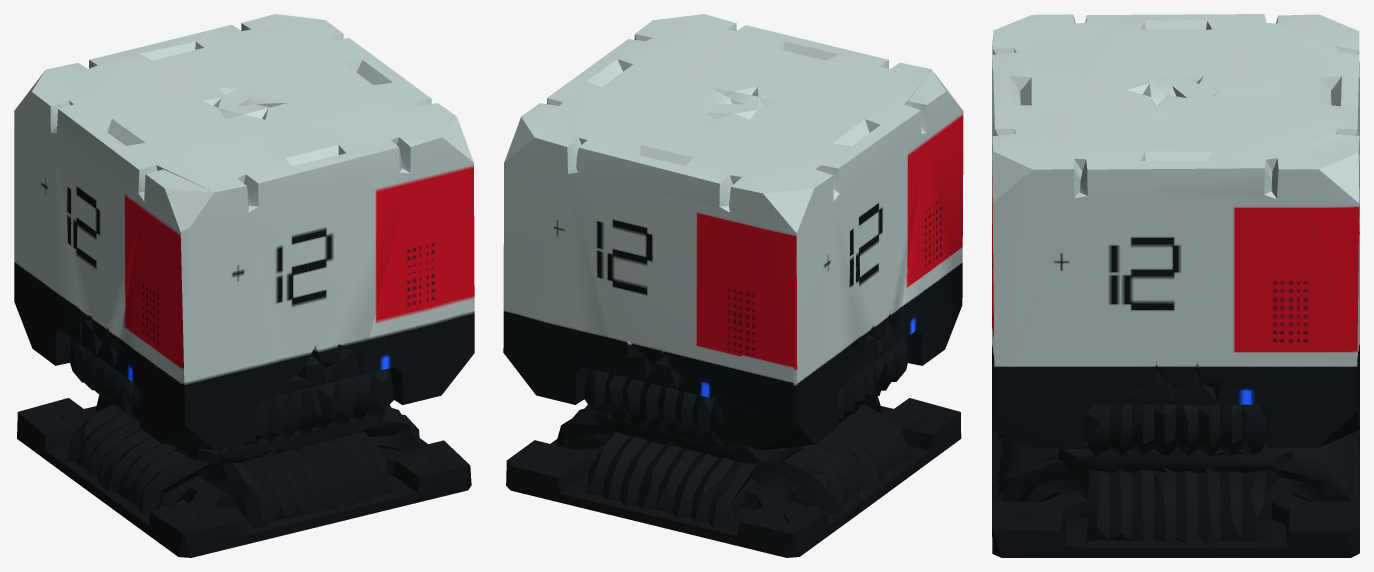
Rendered from pawn-far.glb.
The picture shows the model from 3 angles, left to right: view 1: azimuth 30°, elevation 25°; view 2: azimuth 150°, elevation 25°; view 3: azimuth 270°, elevation 25°; orthographic projection. The views are drawn at different scales.
Parts seen in each view (by area): view 1: pawn; view 2: pawn; view 3: pawn.
Part boxes in pixels (x1,y1,x2,y2): pawn: (14, 14, 474, 557); pawn: (503, 14, 963, 557); pawn: (992, 14, 1359, 557).
Bounding box in the file's own units: 50.03 × 58.55 × 50.02.
1 material, 1 textured.
